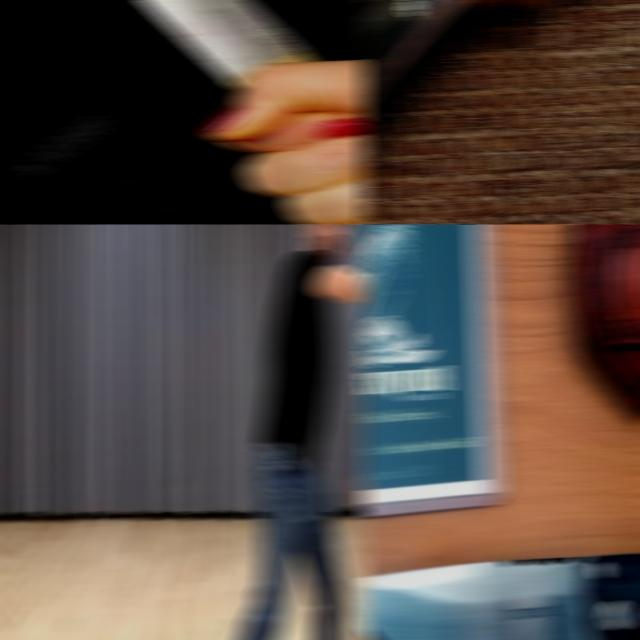Knife: (139, 0, 310, 86)
Knife_Handle: (76, 0, 368, 224), (340, 475, 368, 517)
